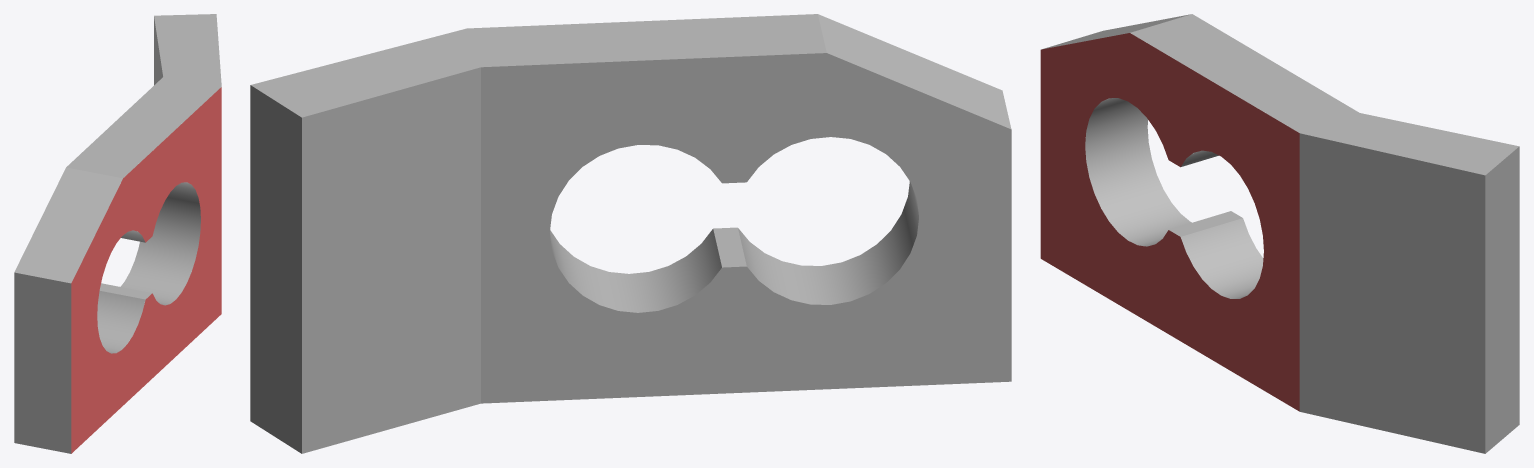
The picture shows the model from 3 angles, left to right: view 1: azimuth 30°, elevation 25°; view 2: azimuth 150°, elevation 25°; view 3: azimuth 270°, elevation 25°; orthographic projection. The views are drawn at different scales.
Visible parts, largest first — view 1: 34-5.SLDPRT; view 2: 34-5.SLDPRT; view 3: 34-5.SLDPRT.
Part boxes in pixels (left/top/right/bottom): 34-5.SLDPRT: left=14, top=14, right=221, bottom=453; 34-5.SLDPRT: left=250, top=14, right=1011, bottom=453; 34-5.SLDPRT: left=1040, top=14, right=1519, bottom=453.
Size of the model in its own units: 0.066 by 0.04 by 0.0623.
